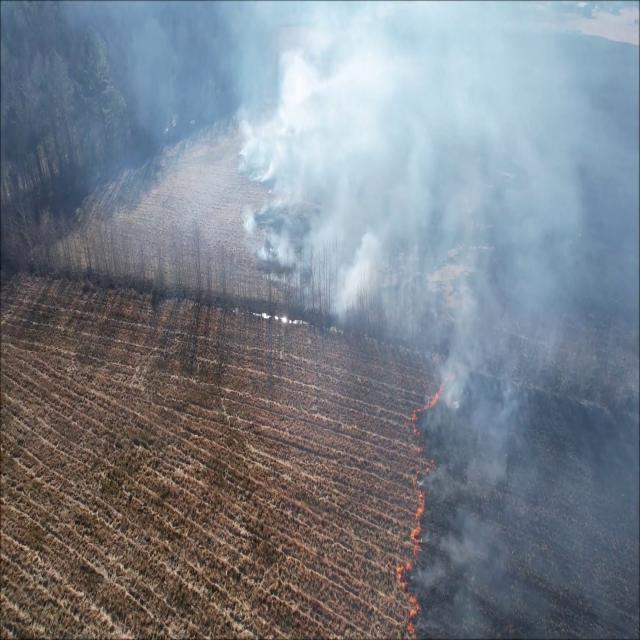Smoke: (243, 6, 442, 329), (428, 347, 485, 424)
